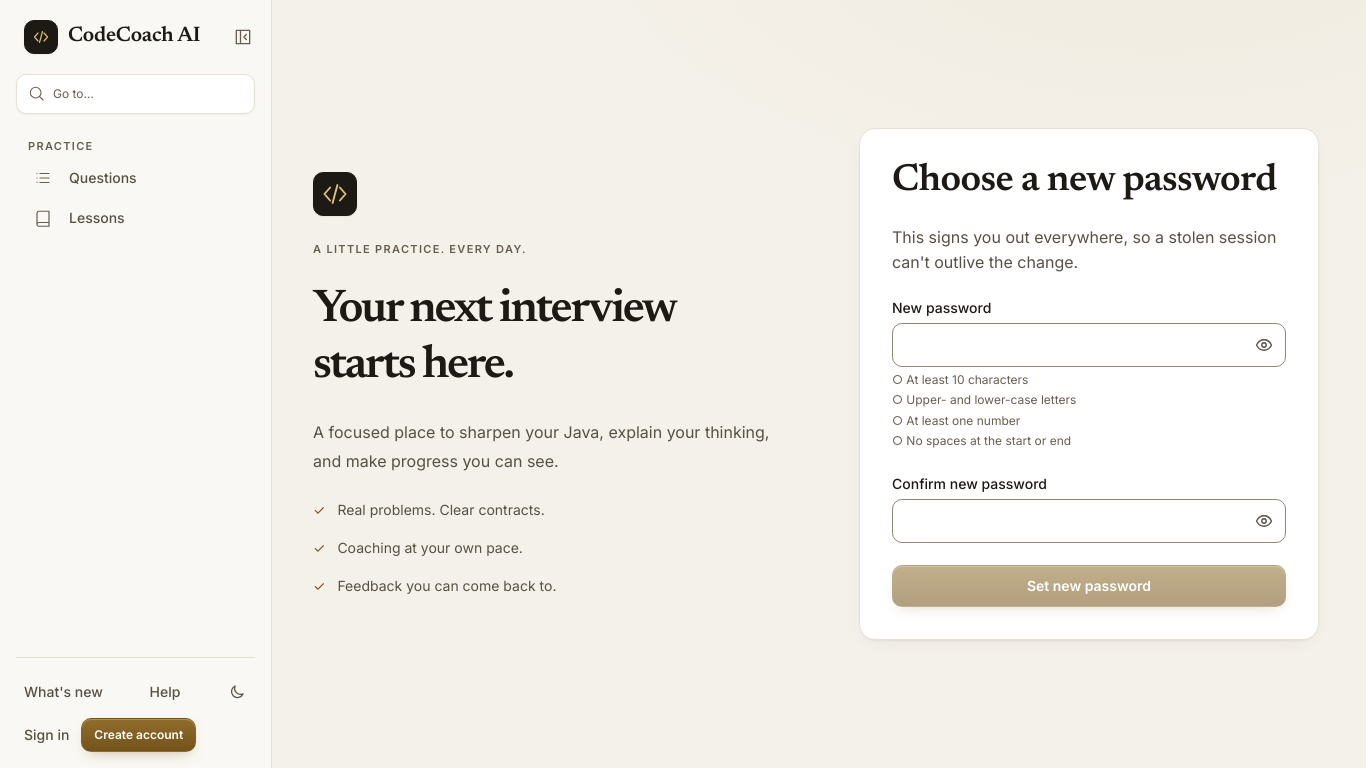
Password reset › sets the new password from the link, removes the token from the address bar, then asks to sign in
The image size is (1366, 768).
Type "BatteryStaple99" into the password field labelled "New password". click: (1089, 344)
box: [892,322,1286,366]
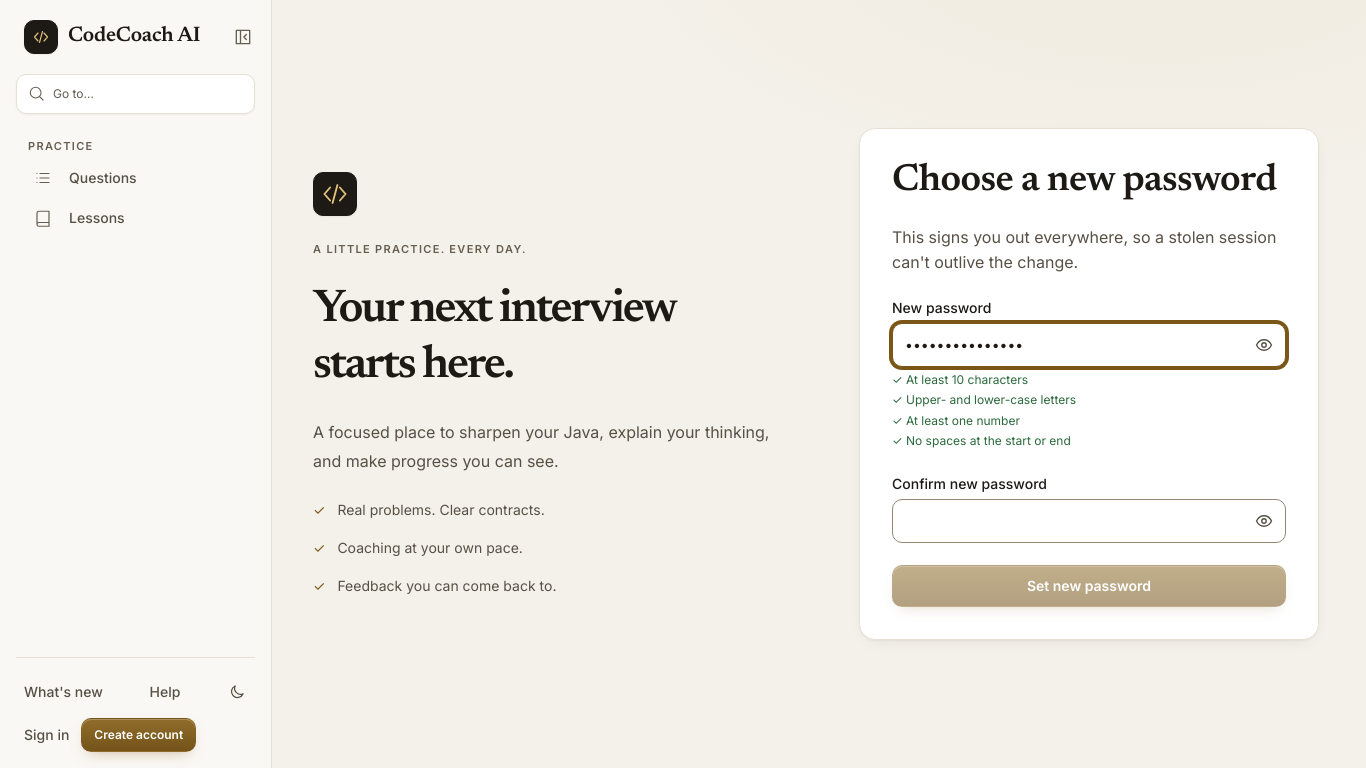
Type "BatteryStaple99" into the password field labelled "Confirm new password". click: (1089, 521)
box: [892,499,1286,543]
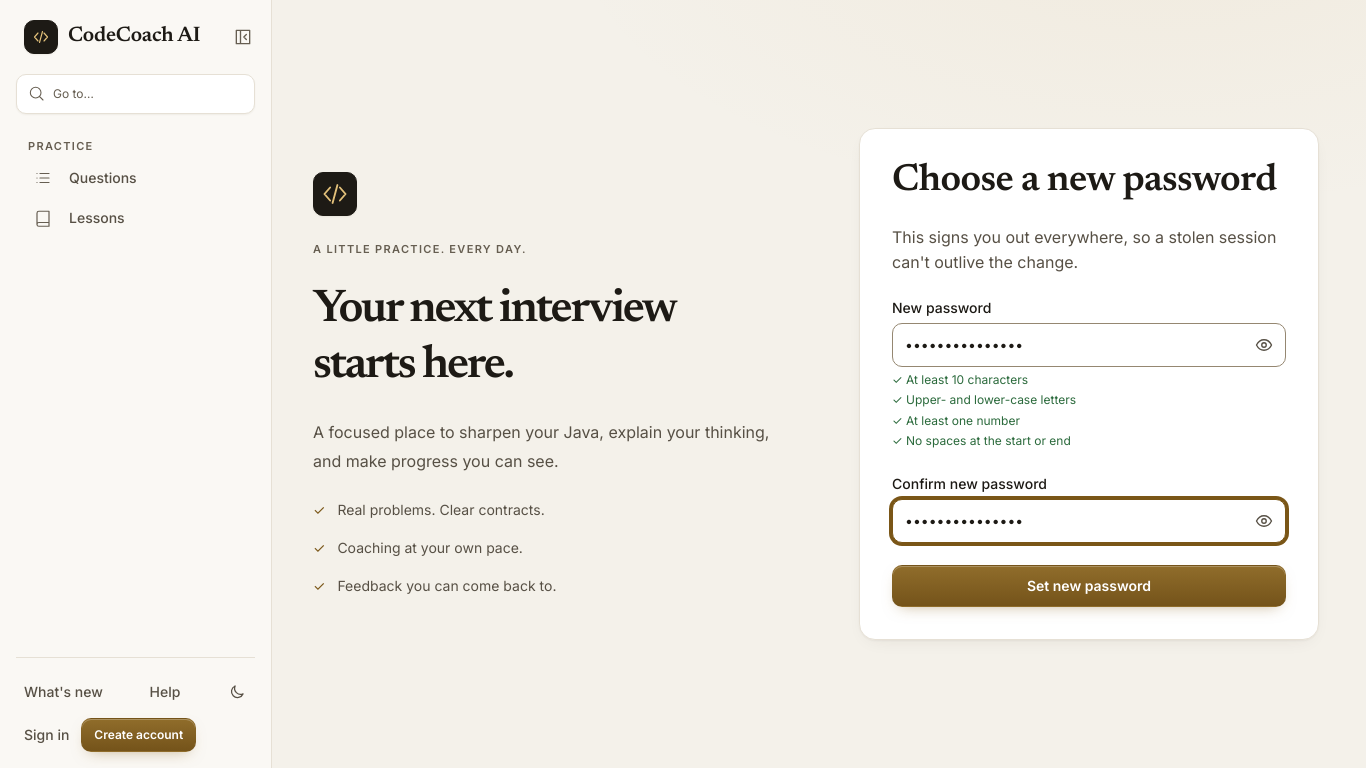
Click the button "Set new password". click: (1089, 586)
box: [892,565,1286,607]
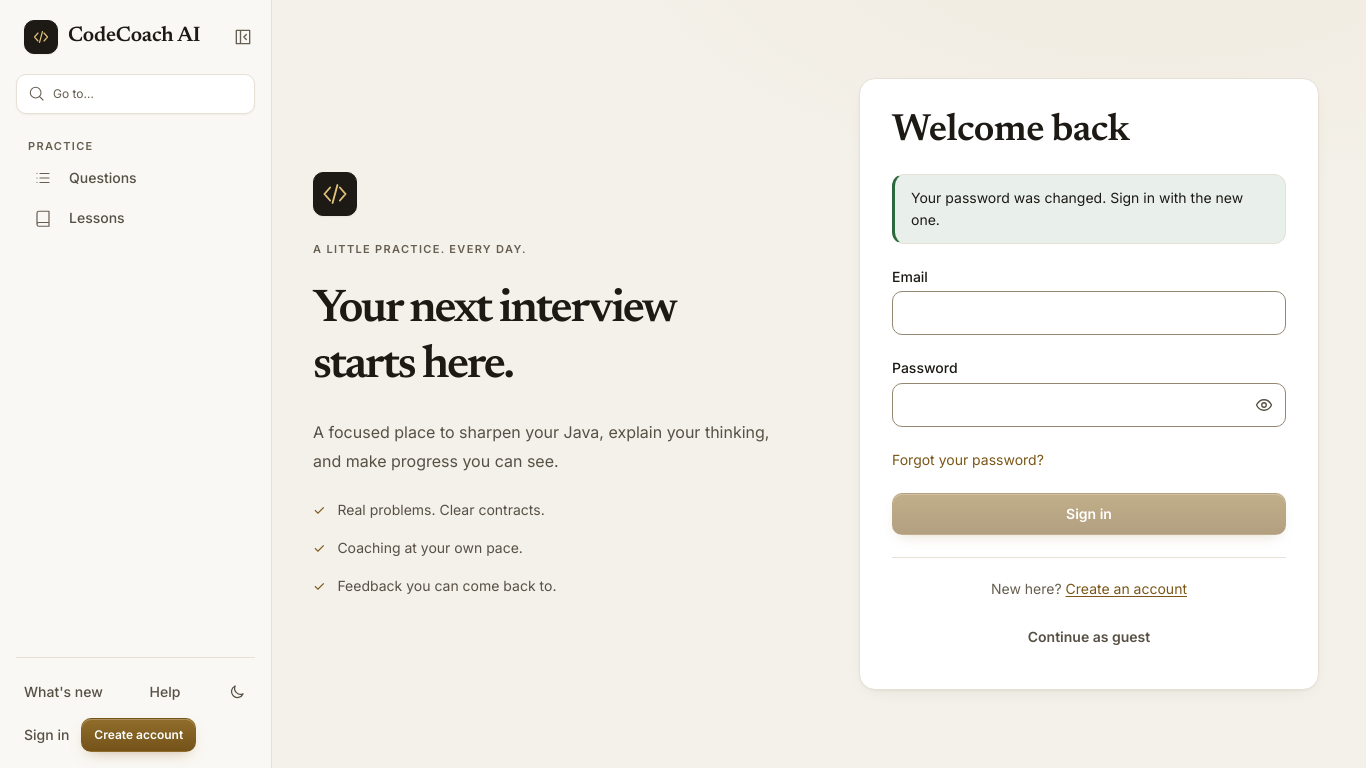
Now the text "Your password was changed. Sign in with the new one." is shown, box [892,174,1286,244]
